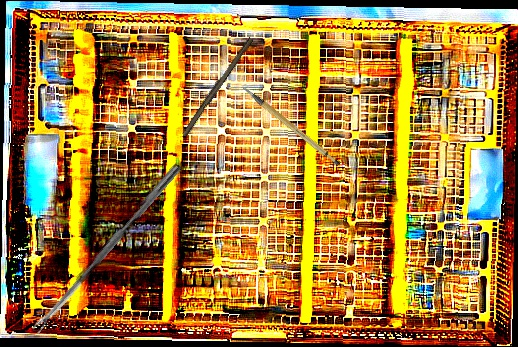Scalpel Handle: (241, 72, 343, 178), (180, 35, 254, 138)
Surgical Spoon: (30, 162, 183, 334)
